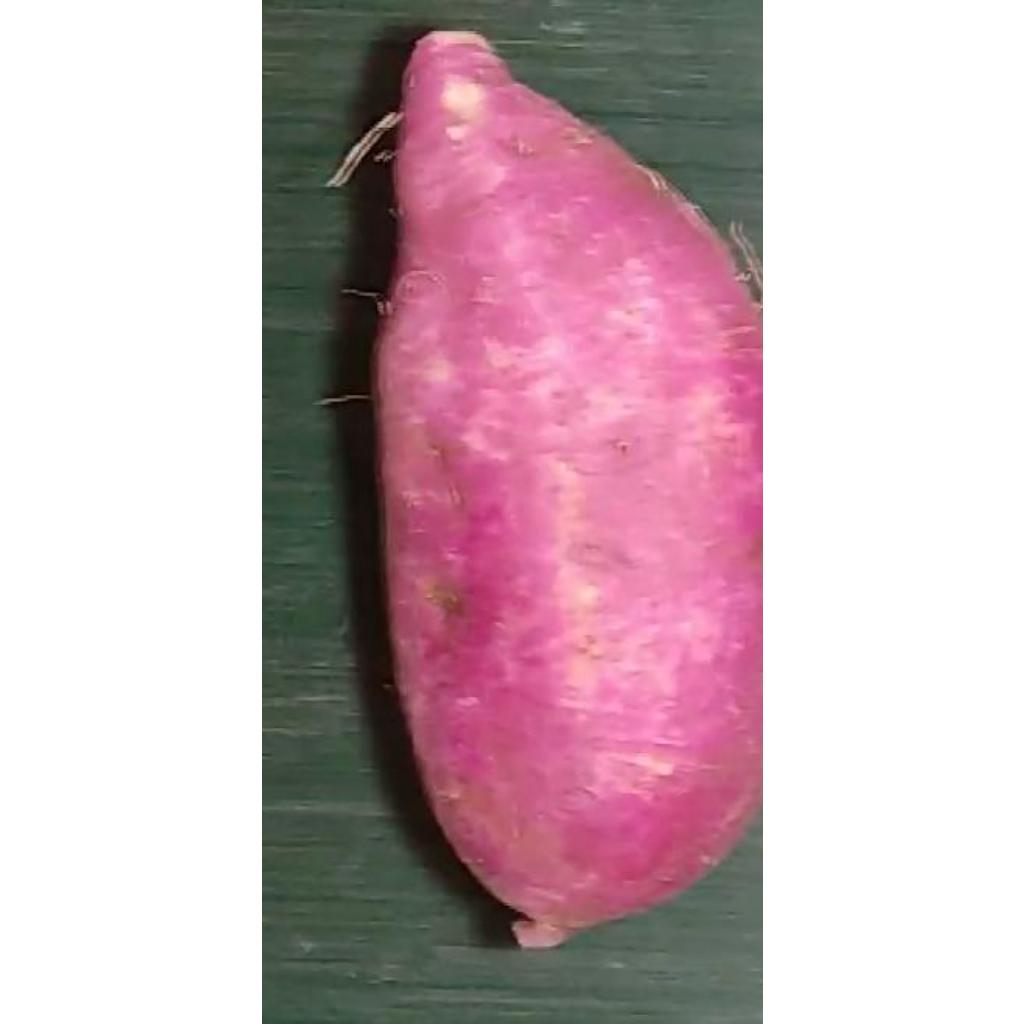Sweet Potato: (371, 31, 762, 948)
